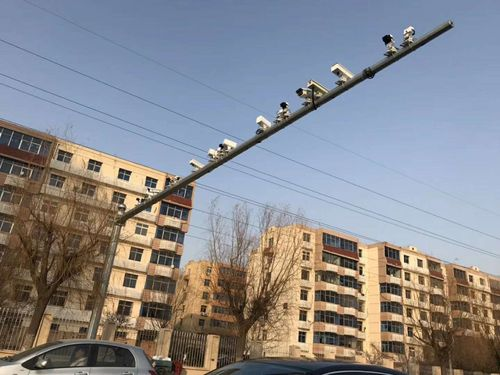camera: (330, 62, 349, 89), (273, 101, 290, 123), (296, 87, 313, 105), (402, 26, 417, 46), (185, 159, 205, 174), (381, 37, 396, 54), (256, 114, 271, 130), (220, 140, 236, 151), (210, 148, 223, 160)
car: (2, 341, 159, 375), (200, 359, 395, 375)
